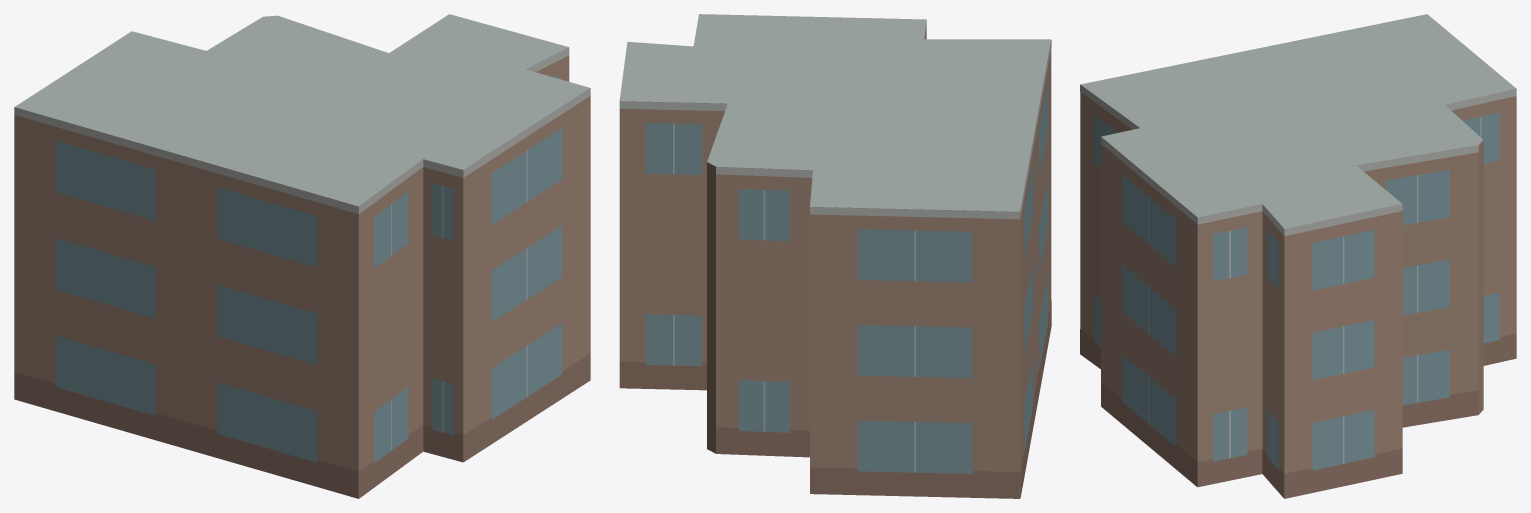
File: survey-upis-32915921.glb
3 renders of one model, left to right at view 1: azimuth 30°, elevation 25°; view 2: azimuth 150°, elevation 25°; view 3: azimuth 270°, elevation 25°, orthographic. The views are drawn at different scales.
Parts seen in each view (by area): view 1: survey-upis-32915921.tmp; view 2: survey-upis-32915921.tmp; view 3: survey-upis-32915921.tmp.
Part boxes in pixels (bbox=[...]): survey-upis-32915921.tmp: bbox=[14, 14, 590, 498]; survey-upis-32915921.tmp: bbox=[619, 14, 1051, 498]; survey-upis-32915921.tmp: bbox=[1080, 14, 1516, 498].
Size of the model in its own units: 15.65 by 9.15 by 13.42.
